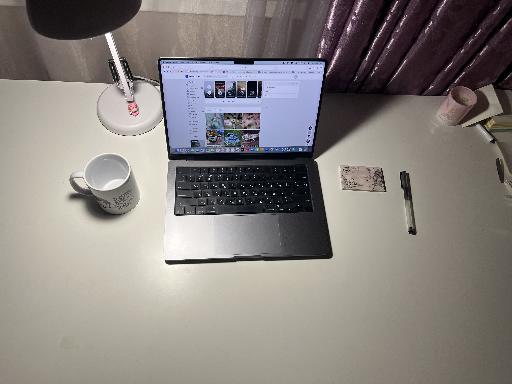vk: (162, 73, 314, 146)
